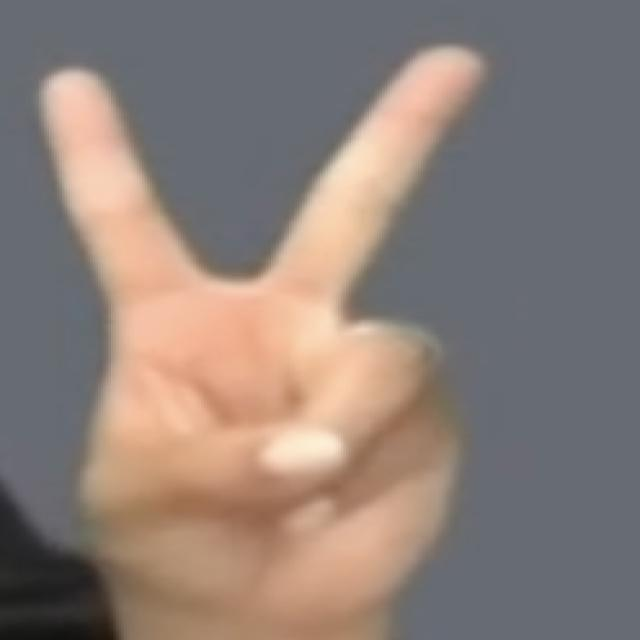V: (26, 28, 506, 624)
